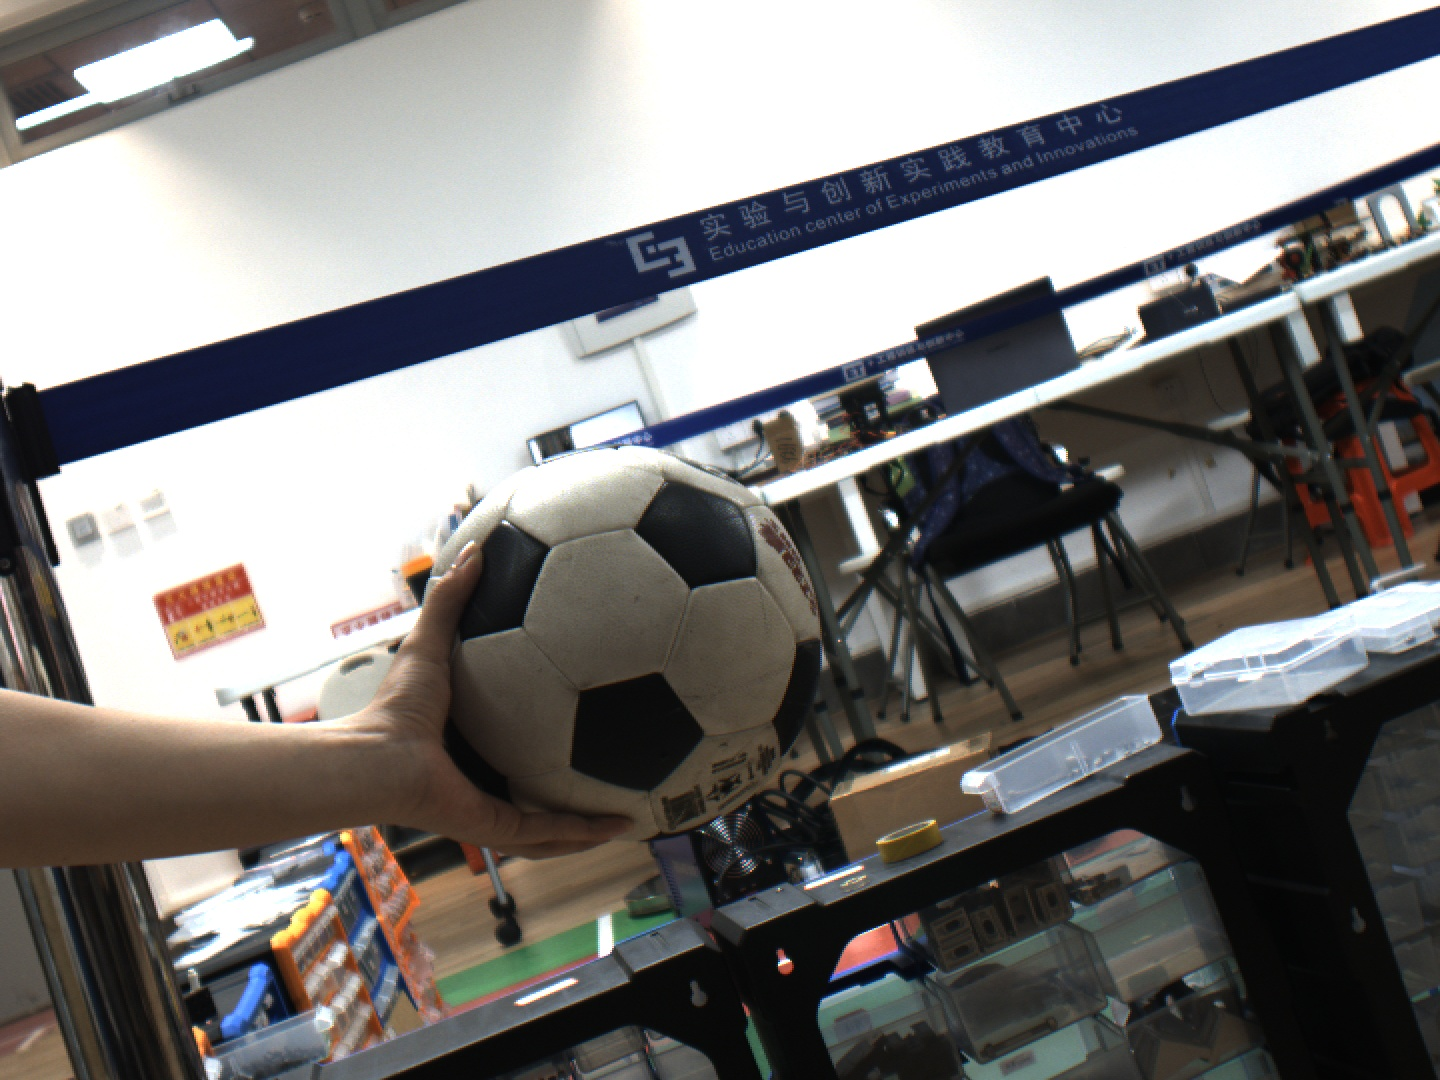ball: (403, 431, 847, 846)
